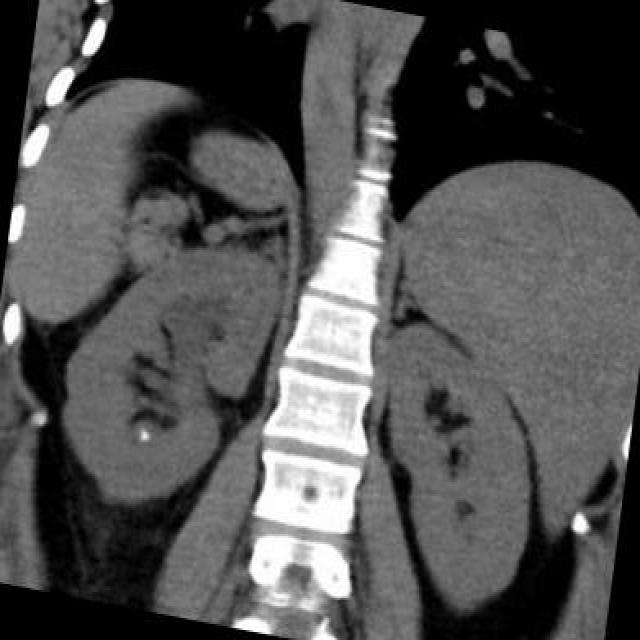Tas_Var: (134, 425, 152, 447)
